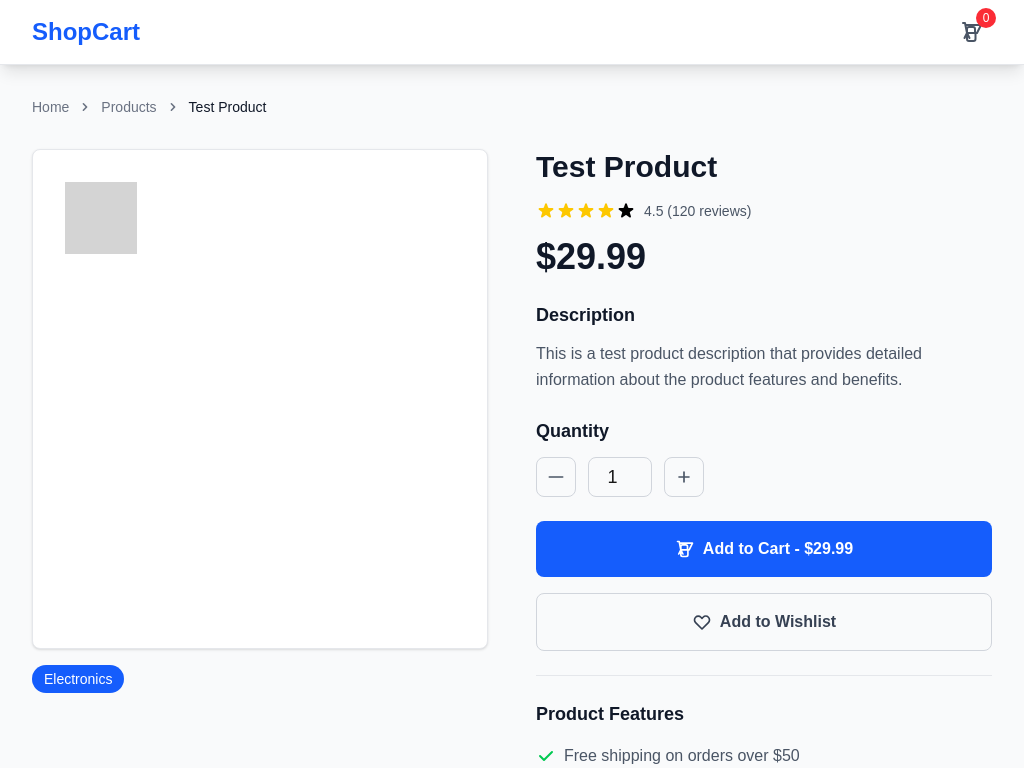
Test: Product Detail Page › calculates total price based on quantity
Check: the list item "Test Product" is shown, box [189,97,266,117]
Change quantity to 3
Replace the text in the number field with "3" at (620, 477), box [588,457,652,497]
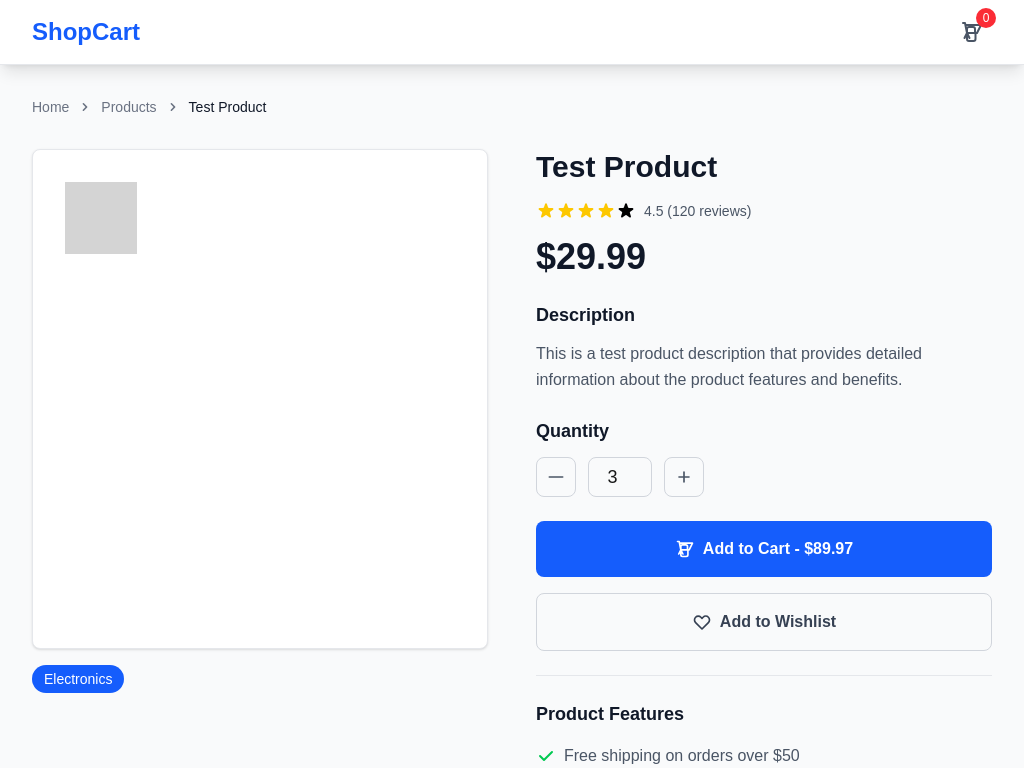
Check: the button "Add to Cart - $89.97" is shown, box [536,521,992,577]
